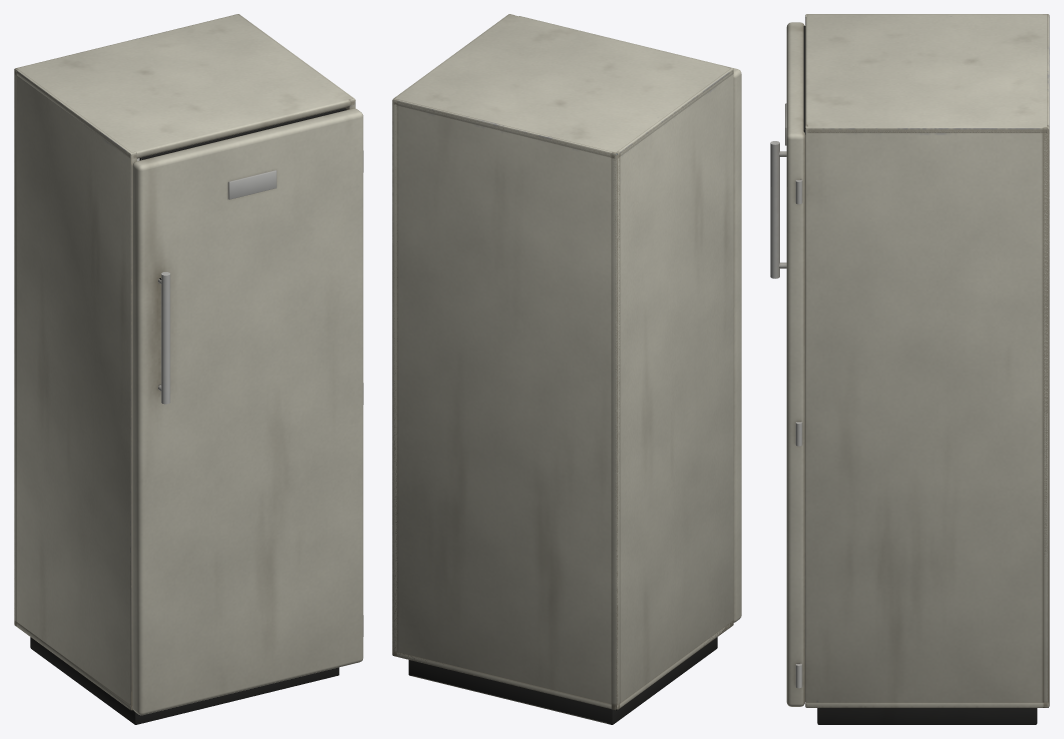
File: kuehlschrank_tuer.glb
3 renders of one model, left to right at view 1: azimuth 30°, elevation 25°; view 2: azimuth 150°, elevation 25°; view 3: azimuth 270°, elevation 25°, orthographic. The views are drawn at different scales.
Visible parts, largest first — view 1: tuer, korpus; view 2: korpus, tuer; view 3: korpus, tuer.
Boxes of the visible parts, bbox=[...] form: tuer: bbox=[132, 108, 363, 715]; korpus: bbox=[14, 14, 355, 724]; korpus: bbox=[392, 14, 733, 724]; tuer: bbox=[519, 16, 741, 622]; korpus: bbox=[803, 14, 1049, 724]; tuer: bbox=[770, 22, 805, 706].
Bounding box in the file's own units: 0.672 × 1.62 × 0.6795.
Materials: 1 (1 with a texture image).
